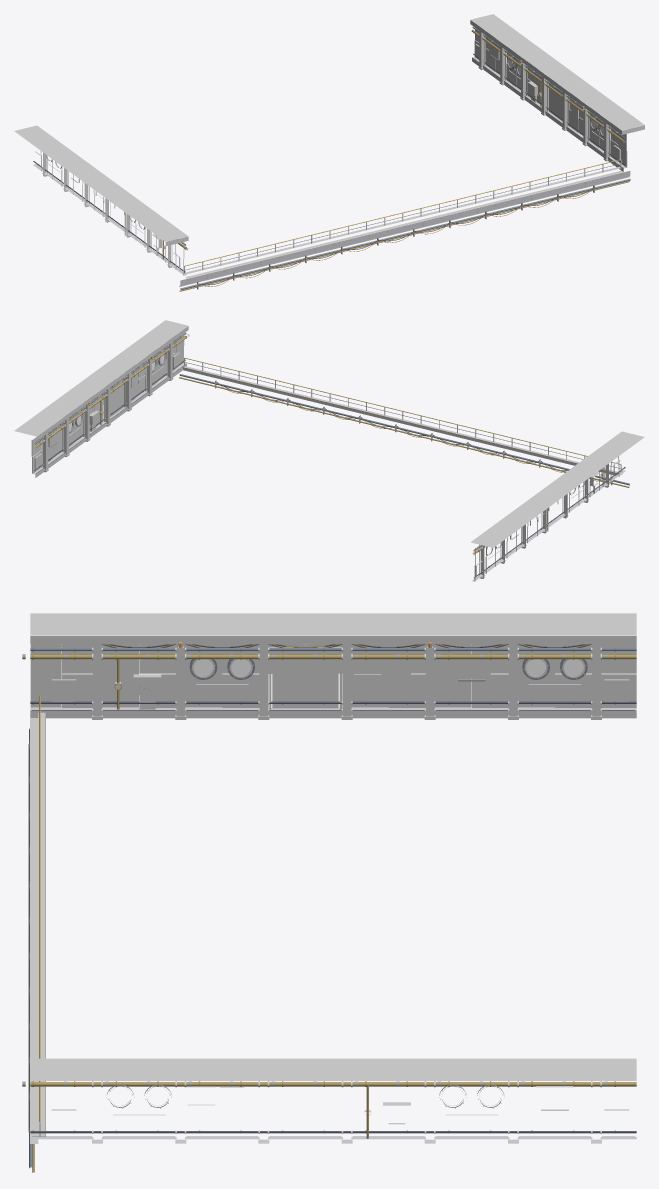
Rendered from shell_walls.glb.
3 renders of one model, top to bottom at view 1: azimuth 30°, elevation 25°; view 2: azimuth 150°, elevation 25°; view 3: azimuth 270°, elevation 25°, orthographic. The views are drawn at different scales.
Visible parts, largest first — view 1: walls; view 2: walls; view 3: walls, glass.
Part boxes in pixels (bbox=[...]): walls: bbox=[14, 14, 644, 291]; walls: bbox=[14, 320, 644, 581]; walls: bbox=[22, 613, 636, 1172]; glass: bbox=[193, 659, 583, 676].
Bounding box in the file's own units: 39.93 × 4.48 × 22.17.
